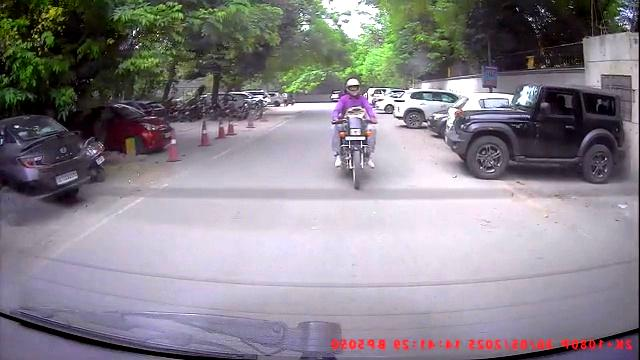motorcycle_with_helmet: (332, 77, 377, 192)
